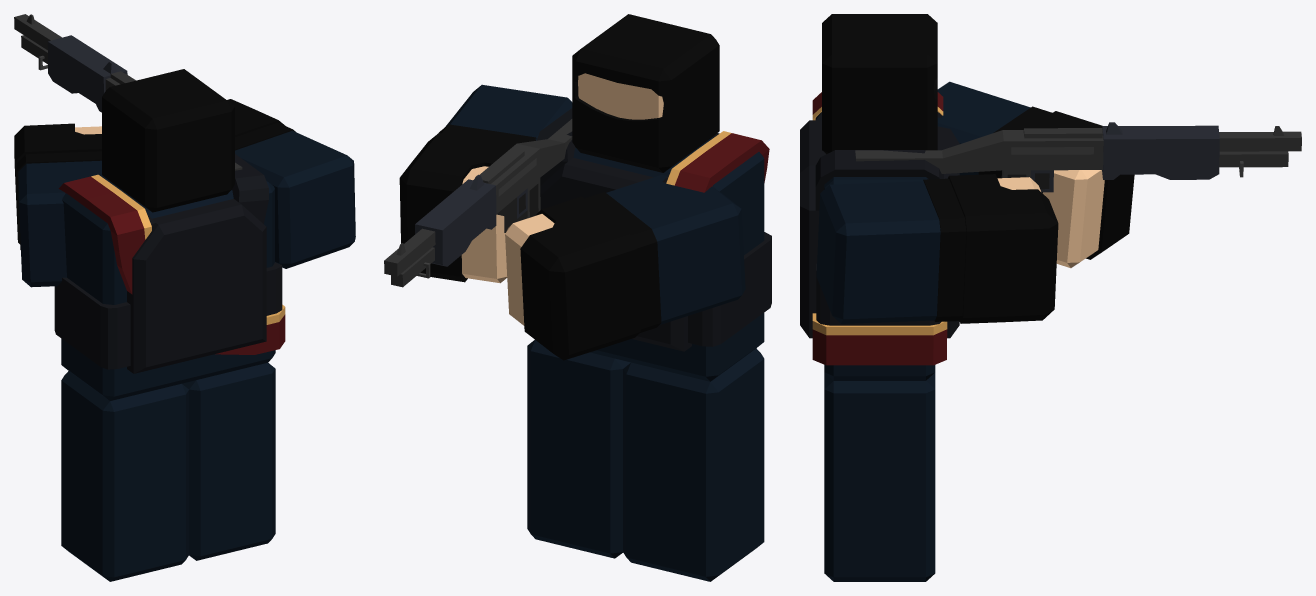
3 views of the same model, side by side, from view 1: azimuth 30°, elevation 25°; view 2: azimuth 150°, elevation 25°; view 3: azimuth 270°, elevation 25° (orthographic). The views are drawn at different scales.
Visible parts, largest first — view 1: Terrorist, Terrorist.003, Terrorist.002, Terrorist.001; view 2: Terrorist.003, Terrorist, Terrorist.001, Terrorist.002; view 3: Terrorist.002, Terrorist, Terrorist.003, Terrorist.001.
Boxes of the visible parts, <box> form: Terrorist: <box>54,69,285,400</box>; Terrorist.003: <box>61,362,275,581</box>; Terrorist.002: <box>14,14,355,268</box>; Terrorist.001: <box>14,123,107,287</box>; Terrorist.003: <box>527,340,764,581</box>; Terrorist: <box>535,14,771,381</box>; Terrorist.001: <box>505,175,745,360</box>; Terrorist.002: <box>384,84,572,287</box>; Terrorist.002: <box>816,122,1301,323</box>; Terrorist: <box>800,14,959,380</box>; Terrorist.003: <box>824,372,935,581</box>; Terrorist.001: <box>937,81,1134,268</box>.
Size of the model in its own units: 3.33 by 5.02 by 4.52.
